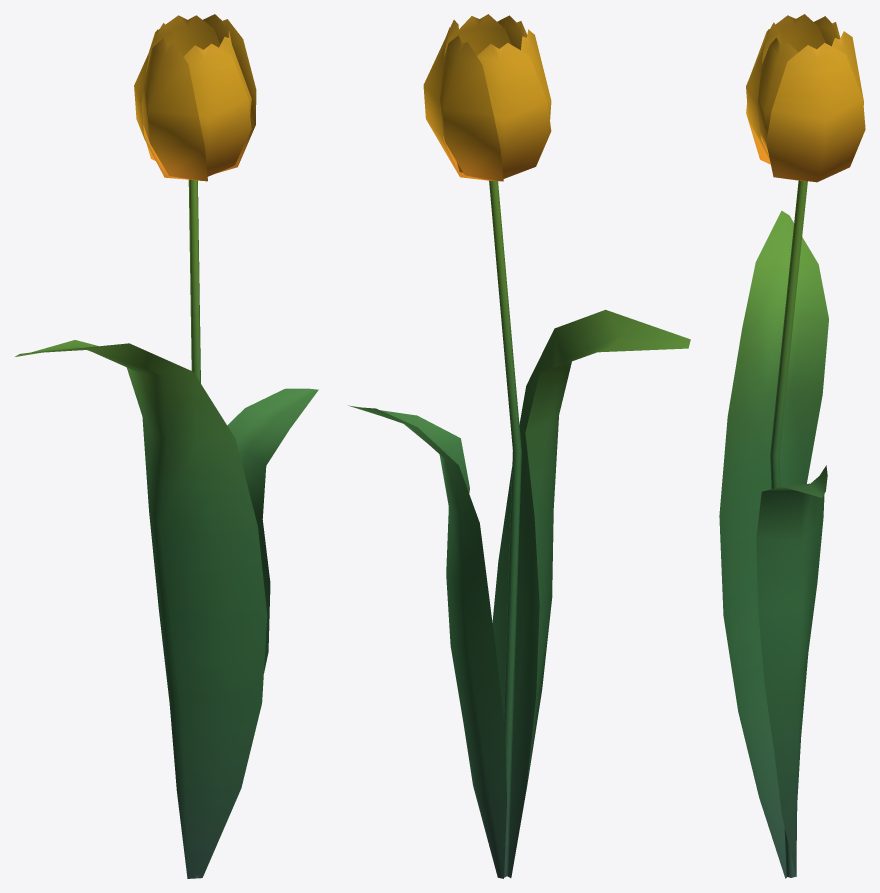
The model's file is flower_020_base_material_0.fbx.
3 views of the same model, side by side, from view 1: azimuth 30°, elevation 25°; view 2: azimuth 150°, elevation 25°; view 3: azimuth 270°, elevation 25° (orthographic).
Visible parts, largest first — view 1: flower_020_base_material_0; view 2: flower_020_base_material_0; view 3: flower_020_base_material_0.
Boxes of the visible parts, box(x1,y1,x2,y2) form: flower_020_base_material_0: box(15, 14, 318, 878); flower_020_base_material_0: box(348, 14, 690, 878); flower_020_base_material_0: box(719, 14, 865, 878).
Size of the model in its own units: 0.9054 by 0.353 by 2.27.
1 material, 1 textured.
